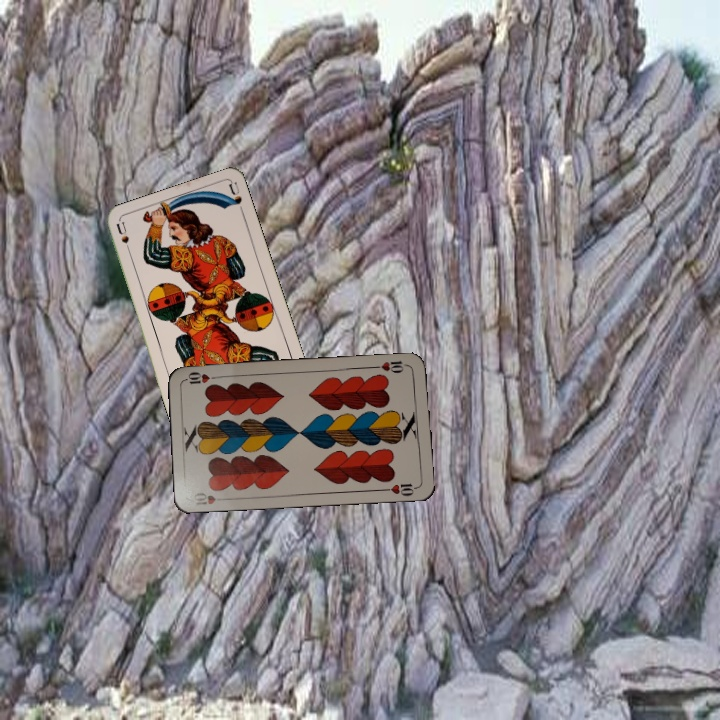H10: (371, 356, 411, 376), (190, 488, 229, 508)
SU: (112, 218, 134, 259)
